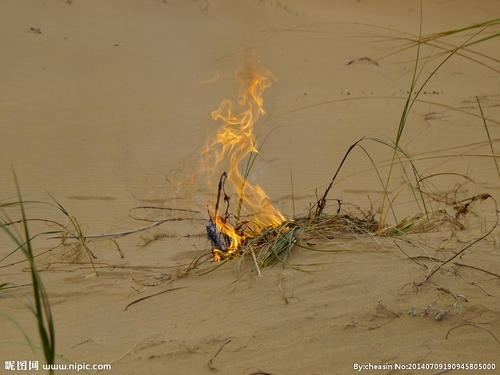fire: (179, 58, 291, 259)
